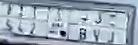2: (28, 5, 38, 36)
4: (16, 3, 25, 34)
5: (5, 2, 14, 33), (4, 2, 5, 3)
B: (79, 12, 89, 42)
J: (106, 12, 116, 43)
V: (92, 9, 103, 42)
